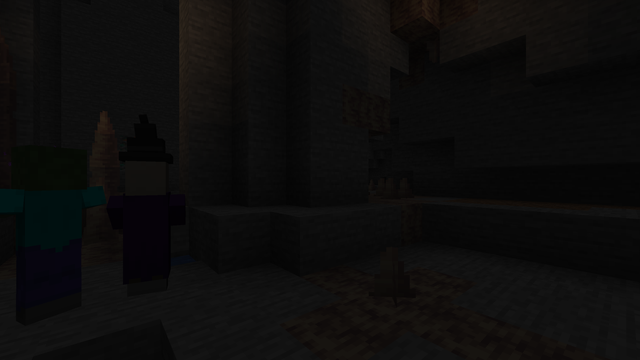sorcieres: (121, 154, 175, 303)
zombies: (4, 148, 84, 333)
